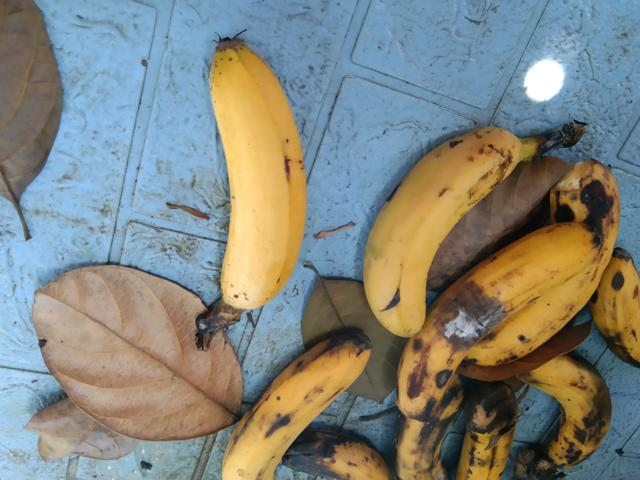freshripe: (163, 28, 334, 334)
ripe: (355, 134, 534, 341), (221, 329, 388, 479)
rotten: (382, 220, 597, 429)
